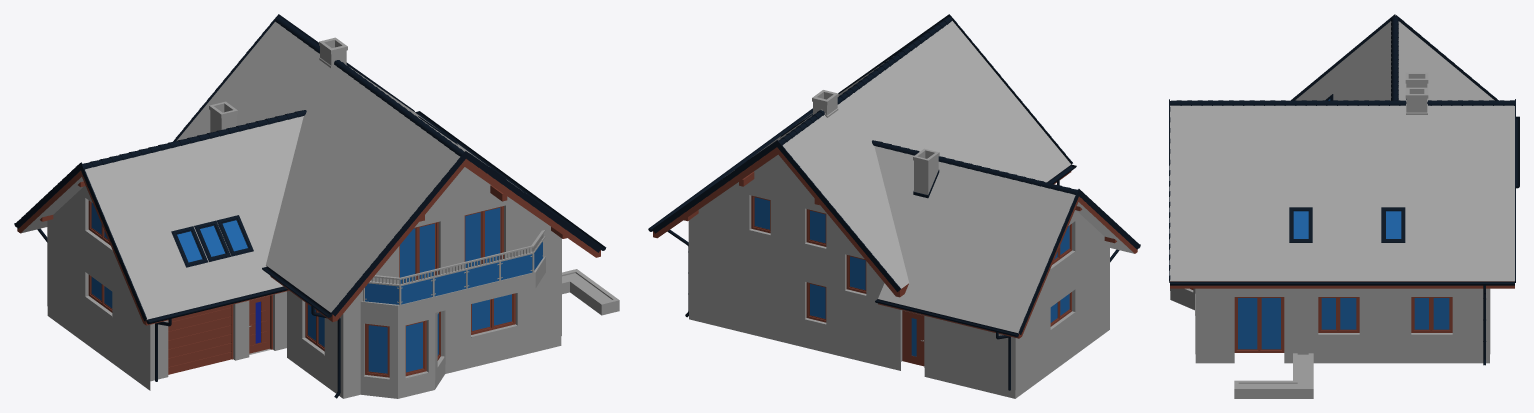
Rendered from house.glb.
The picture shows the model from 3 angles, left to right: view 1: azimuth 30°, elevation 25°; view 2: azimuth 150°, elevation 25°; view 3: azimuth 270°, elevation 25°; orthographic projection. The views are drawn at different scales.
Parts seen in each view (by area): view 1: Buffer Object (×18), cover_sides_001, door_garage, balcony, cover_roof_001, gutter_001; view 2: Buffer Object (×12), cover_sides_001, cover_roof_001, gutter_001; view 3: Buffer Object (×13), cover_roof_001, gutter_001, cover_sides_001.
Part boxes in pixels (x1,y1,x2,y2): Buffer Object (×18): [17, 21, 619, 398]; cover_sides_001: [15, 14, 601, 321]; door_garage: [168, 304, 233, 374]; balcony: [360, 256, 545, 321]; cover_roof_001: [82, 16, 464, 169]; gutter_001: [14, 111, 606, 398]; Buffer Object (×12): [653, 21, 1137, 398]; cover_sides_001: [652, 14, 1139, 334]; cover_roof_001: [778, 17, 1077, 194]; gutter_001: [648, 108, 1140, 390]; Buffer Object (×13): [1170, 21, 1514, 398]; cover_roof_001: [1170, 16, 1514, 105]; gutter_001: [1170, 116, 1519, 365]; cover_sides_001: [1169, 14, 1515, 282].
Bounding box in the file's own units: 20.72 × 10.58 × 15.05.
